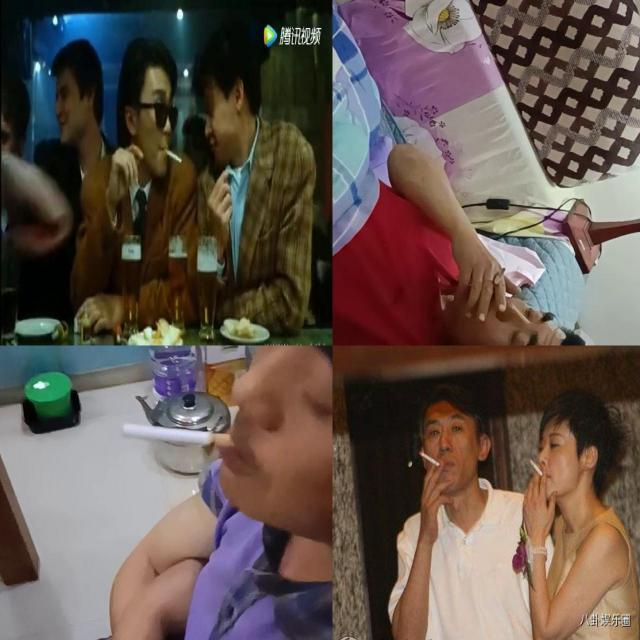cigarette: (123, 424, 235, 450), (418, 450, 441, 468), (164, 146, 184, 166), (490, 267, 506, 291), (528, 458, 544, 478)
